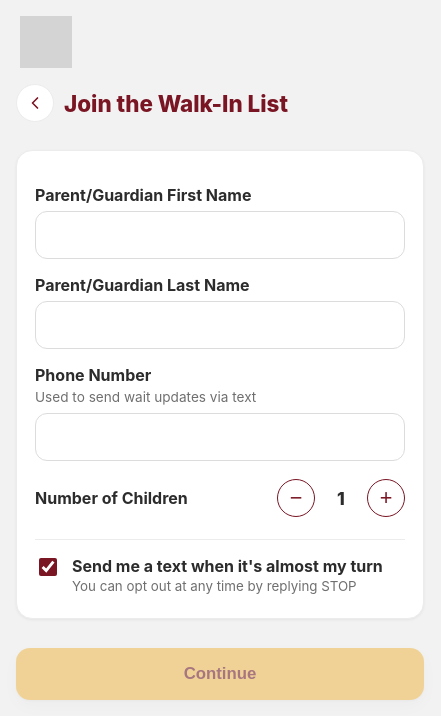
JoinPage › Continue is disabled until required fields are entered
The image size is (441, 716).
Check: the button "Continue" is disabled, box top-left (16, 648), bottom-right (424, 700)
Type "Jane" into the field labelled "Parent/Guardian First Name".
click(220, 235); type("Jane")  # box top-left (35, 211), bottom-right (405, 259)
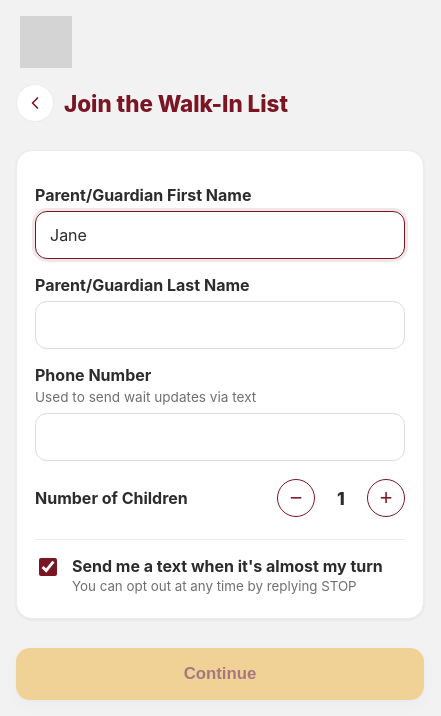
Type "Doe" into the field labelled "Parent/Guardian Last Name".
click(220, 325); type("Doe")  # box top-left (35, 301), bottom-right (405, 349)
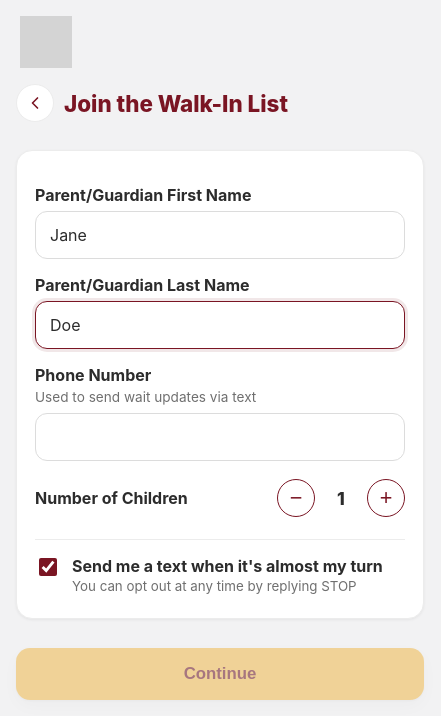
Check: the button "Continue" is disabled, box top-left (16, 648), bottom-right (424, 700)
Type "5551234567" into the field labelled "Phone Number".
click(220, 437); type("5551234567")  # box top-left (35, 413), bottom-right (405, 461)
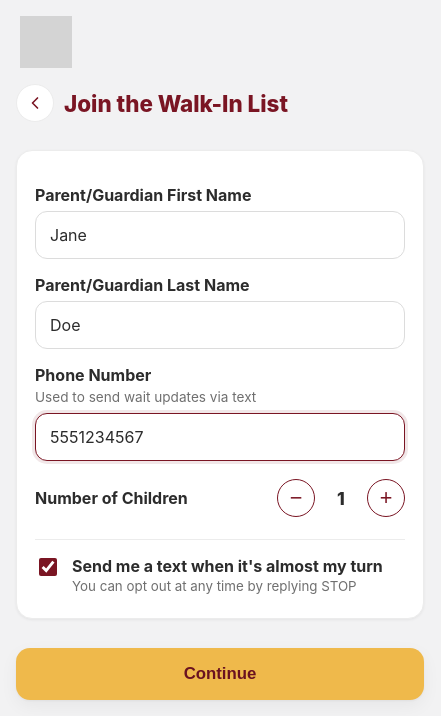
Check: the button "Continue" is enabled, box top-left (16, 648), bottom-right (424, 700)
